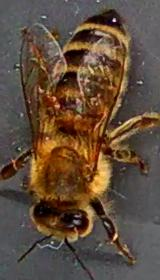varroa_mite: (38, 90, 61, 110)
